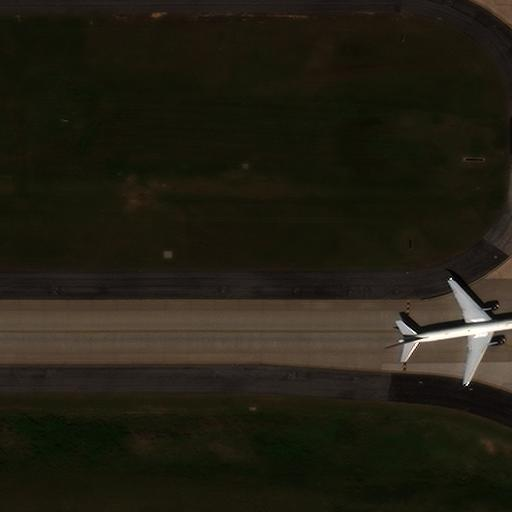Large Civil Transport: (392, 275, 511, 385)
